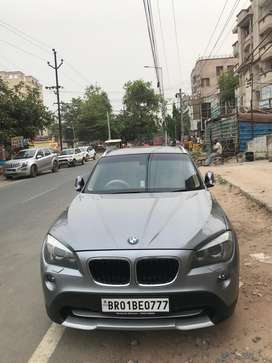BR01BE0777: (100, 297, 169, 311)
